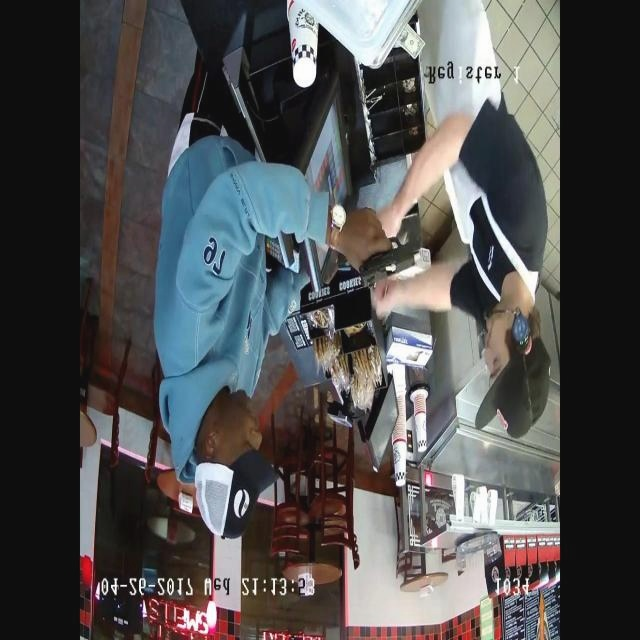gun: (352, 209, 431, 303)
